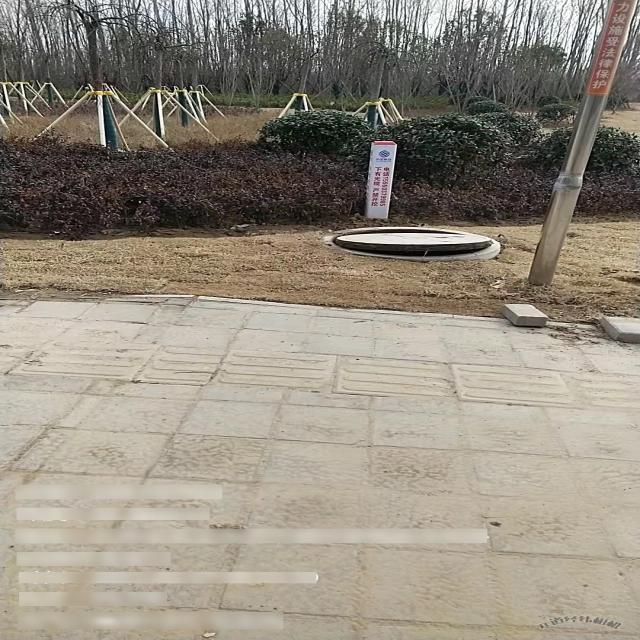Lose: (322, 222, 502, 264)
